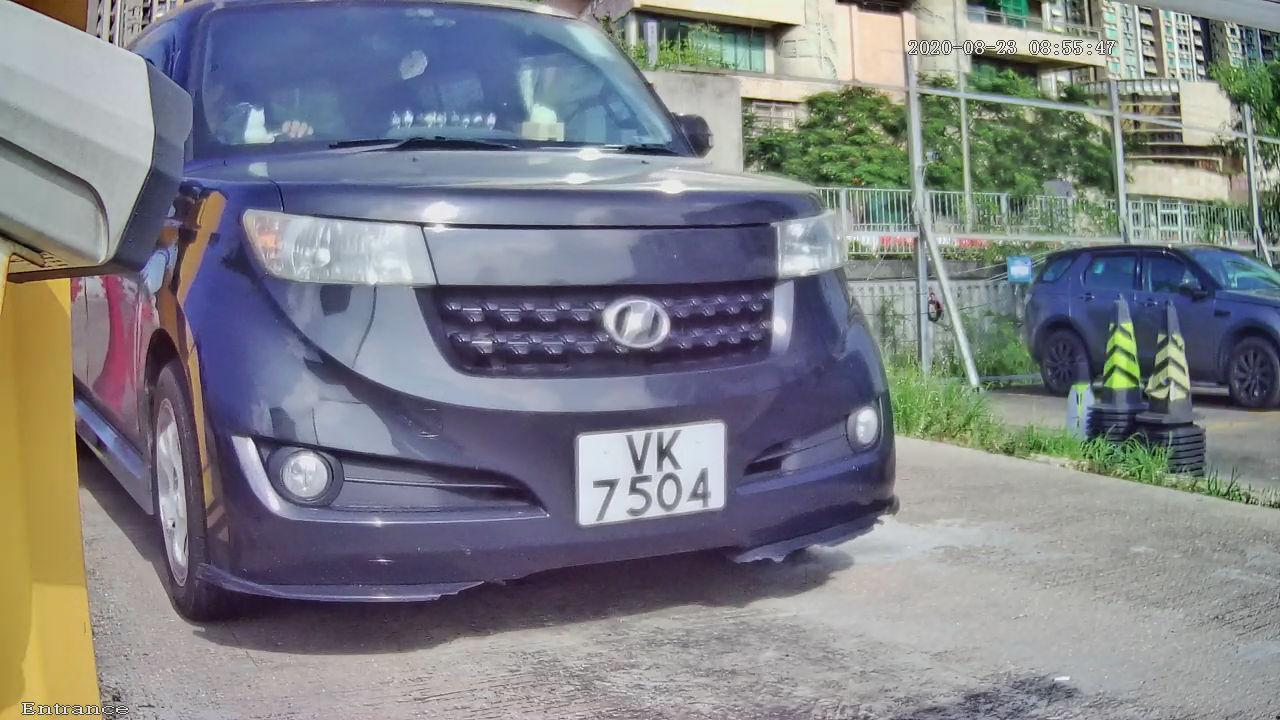Car: (23, 1, 978, 679)
License Plate: (560, 406, 743, 534)
